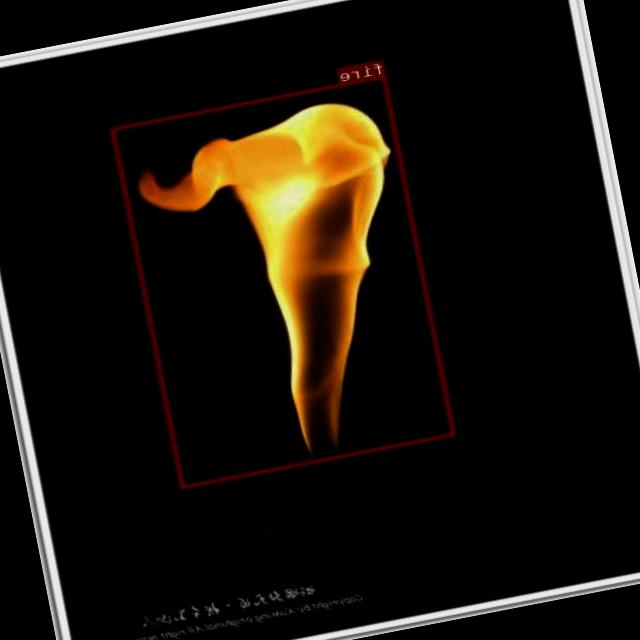fire: (110, 74, 458, 488)
